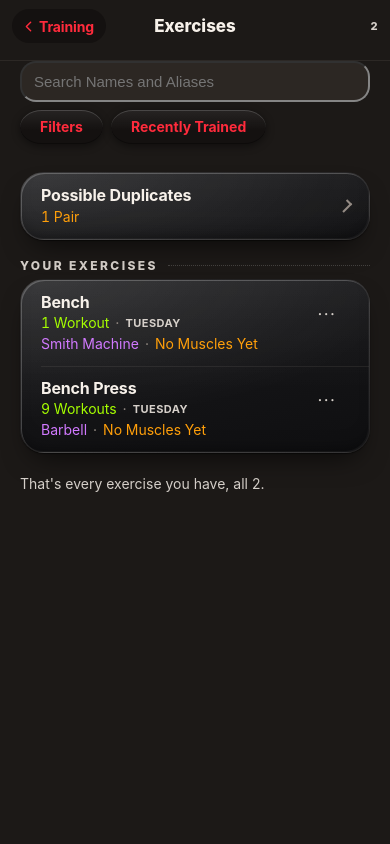
LibraryPage: the duplicate review room › shows what separates the two before it offers to weld them
Click the button "Possible Duplicates 1 Pair": x=116, y=195 [21, 173, 369, 239]
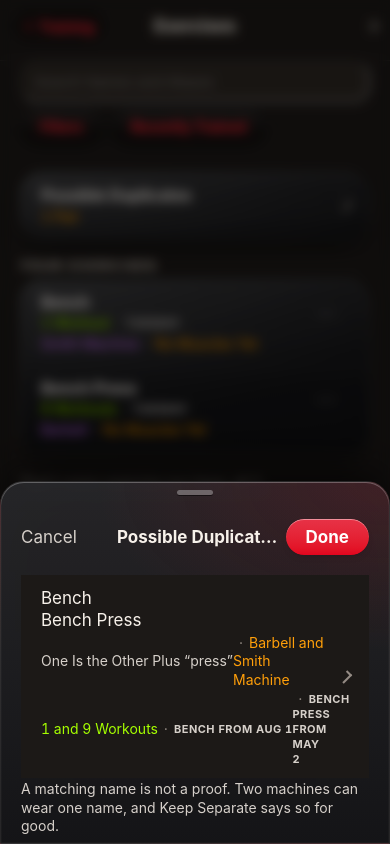
Expected: the text "1 and 9 Workouts" is shown, [41, 720, 158, 739]
Expected: the text "A matching name is not a proof" is shown, [21, 780, 358, 834]
